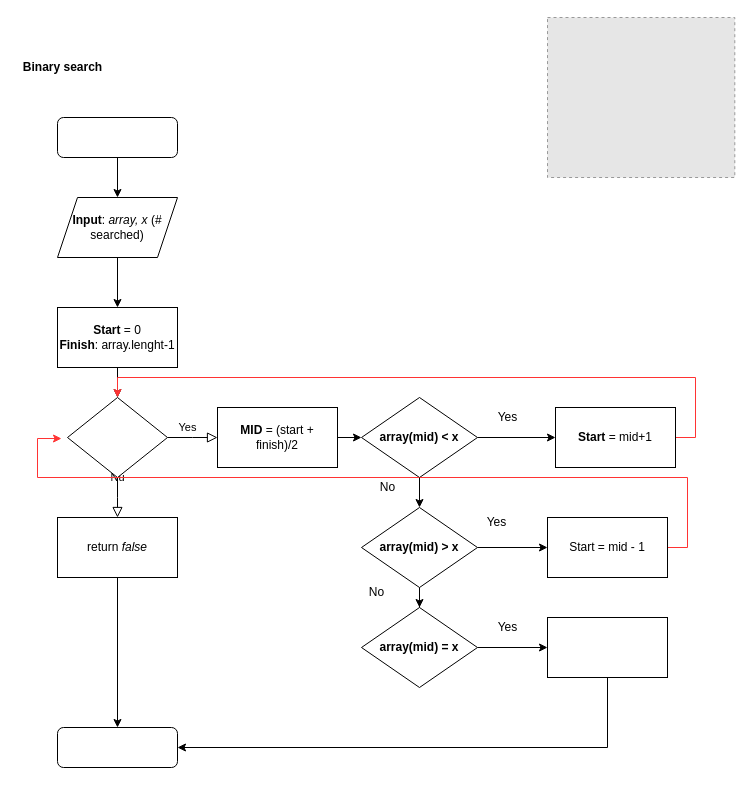
Some shapes in this 752 by 785 pixel diagram are drawn without their labels. Grey dashed boxes stand in for pictures. The centre of each missing label's shape, as x and y in pixels:
"END" belongs at point 117,747.
"return true" belongs at point 607,647.
"START" belongs at point 117,137.
"start <= finish" belongs at point 117,437.
